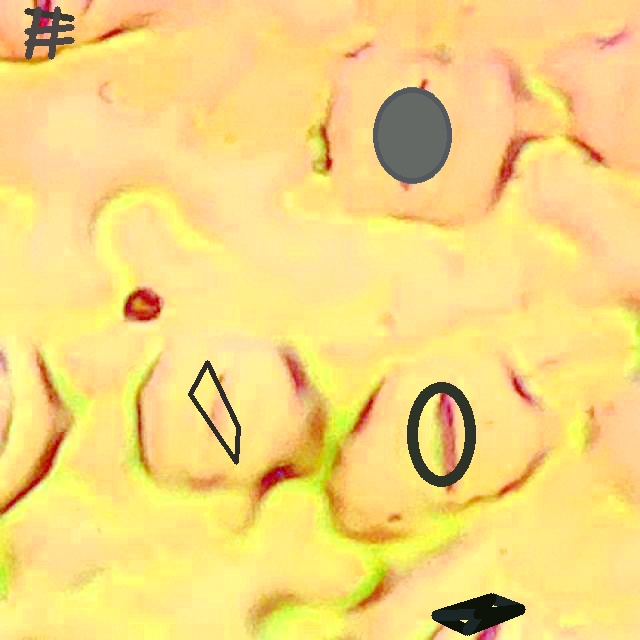close: (188, 361, 240, 463)
open: (373, 86, 452, 184), (406, 382, 475, 487), (432, 593, 524, 635), (24, 6, 74, 59)
